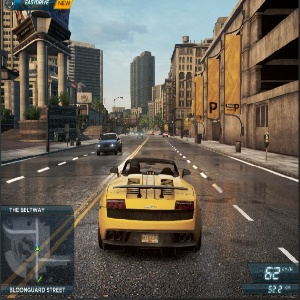ad: (77, 90, 93, 103)
building: (164, 39, 212, 124), (129, 48, 158, 124)
garbage: (234, 138, 244, 155), (196, 130, 204, 146)
vehicle: (94, 132, 125, 155), (133, 129, 145, 141), (125, 129, 136, 136), (161, 131, 170, 138), (149, 131, 156, 136)
